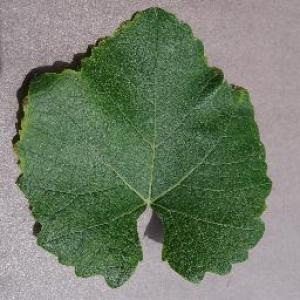Folha: (11, 6, 273, 290)
